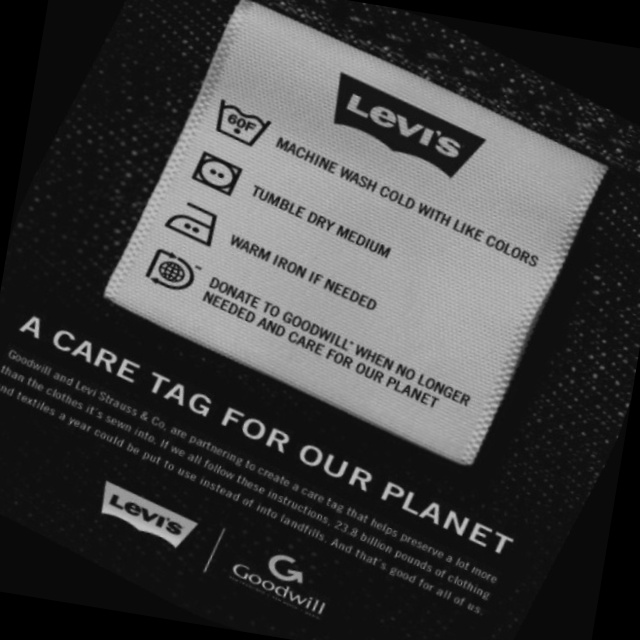30C: (198, 84, 285, 162)
iron_medium: (154, 185, 236, 260)
tumble_dry_medium: (178, 141, 255, 209)
